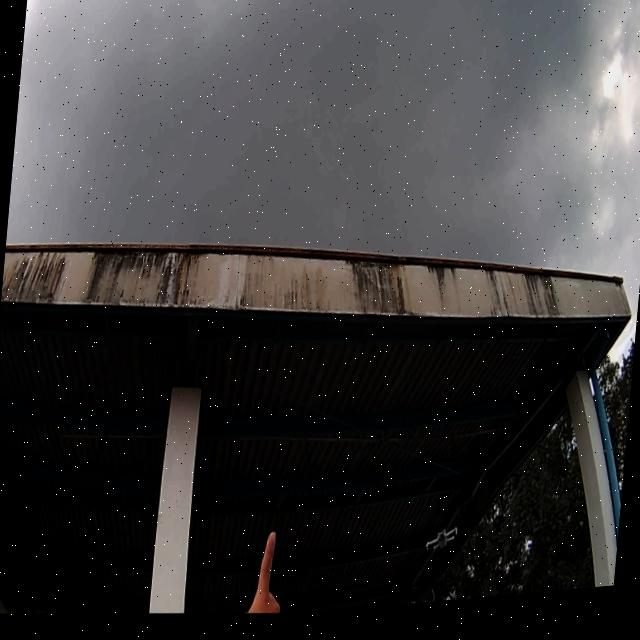drone: (420, 523, 462, 568)
